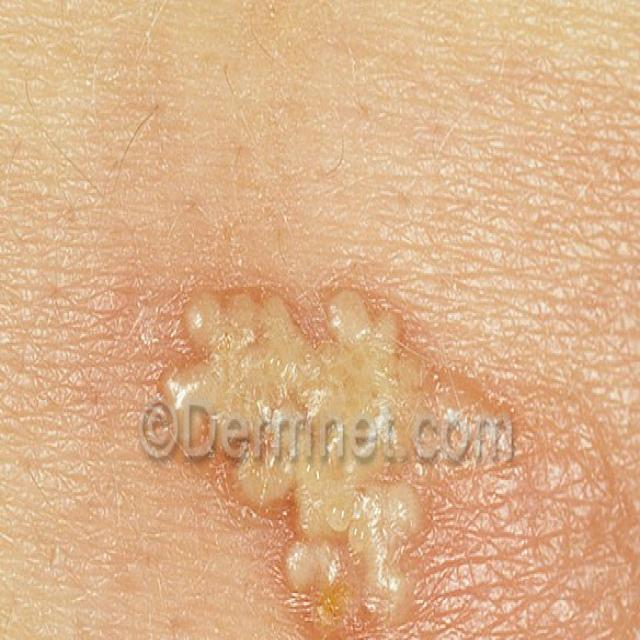Viral Infections: (163, 268, 636, 640)
